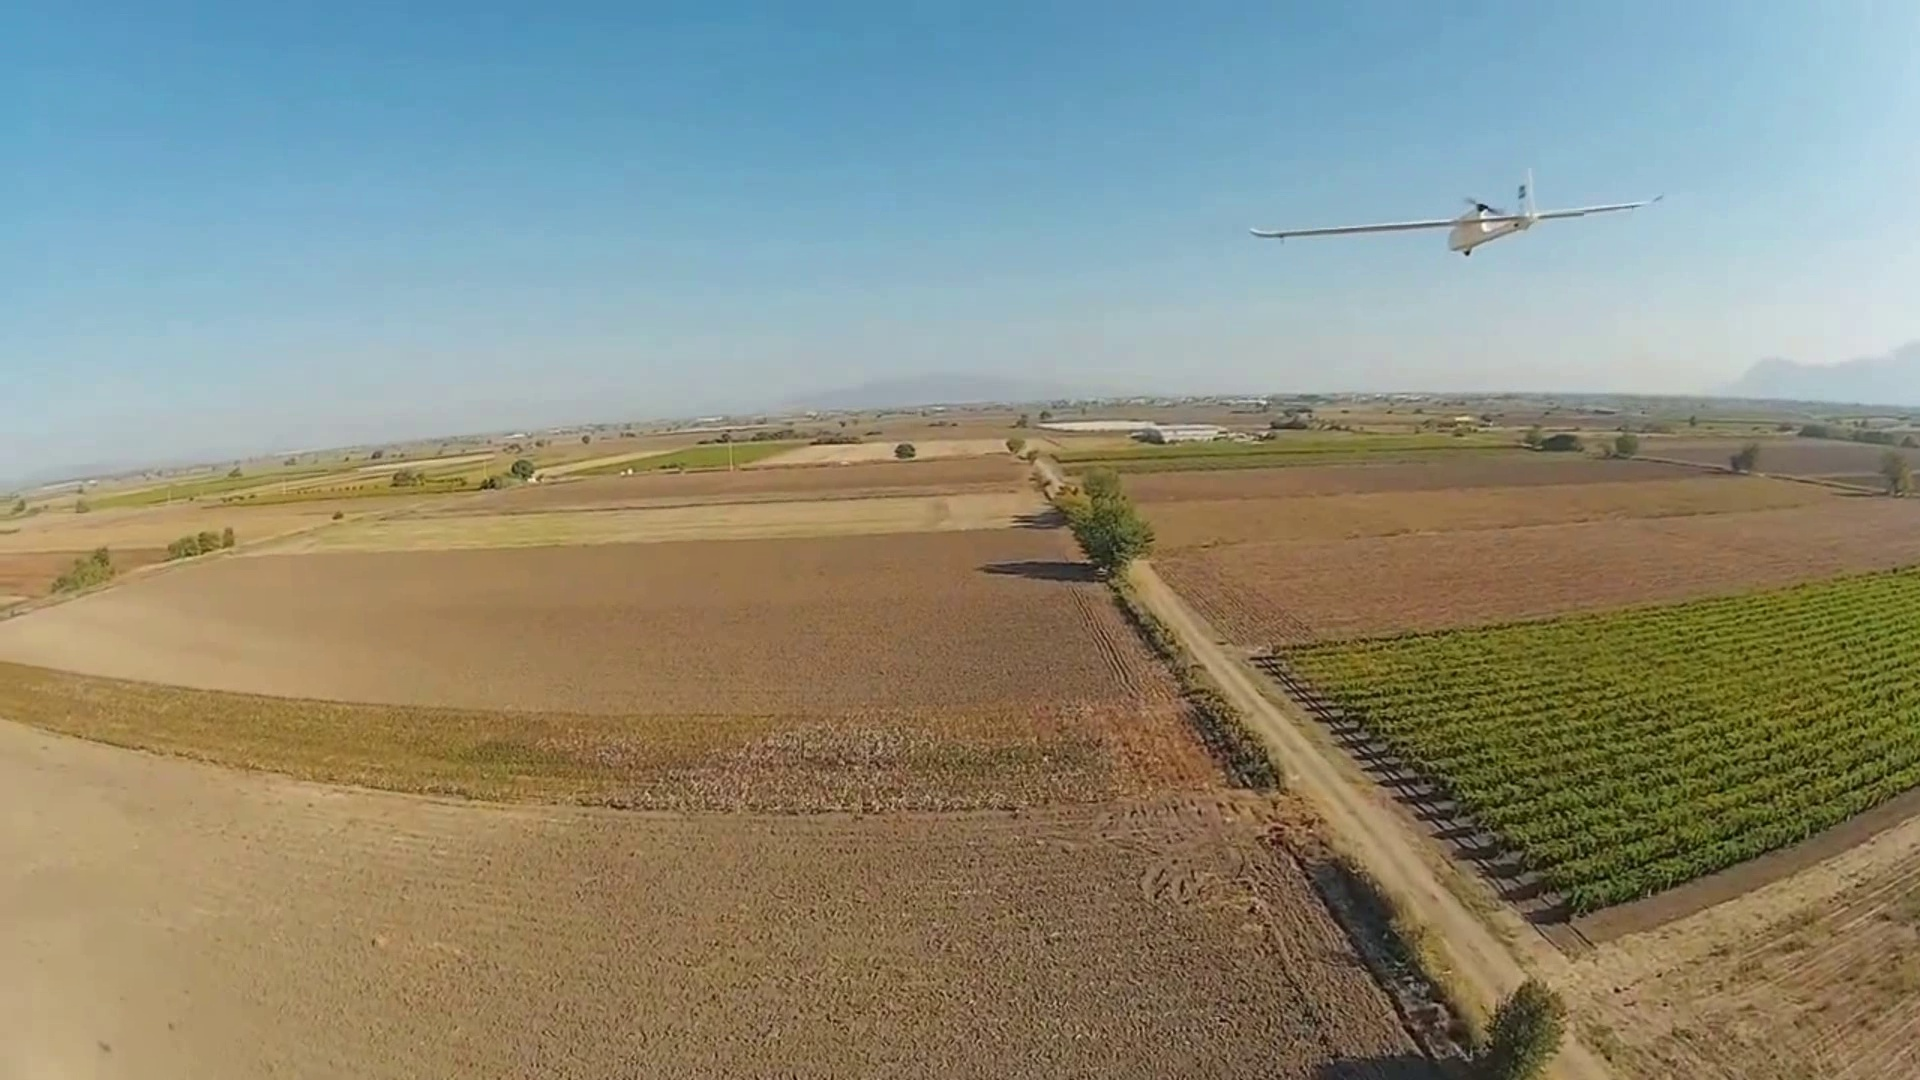airplane: (1248, 166, 1664, 254)
